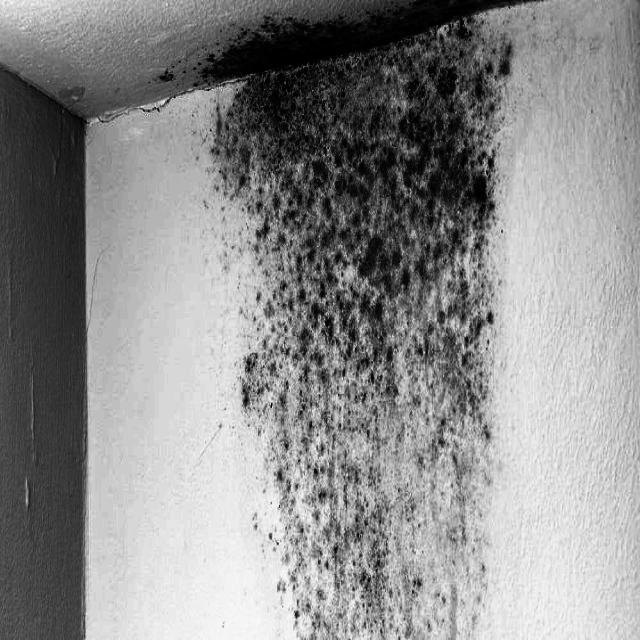stain marks: (149, 6, 548, 640)
